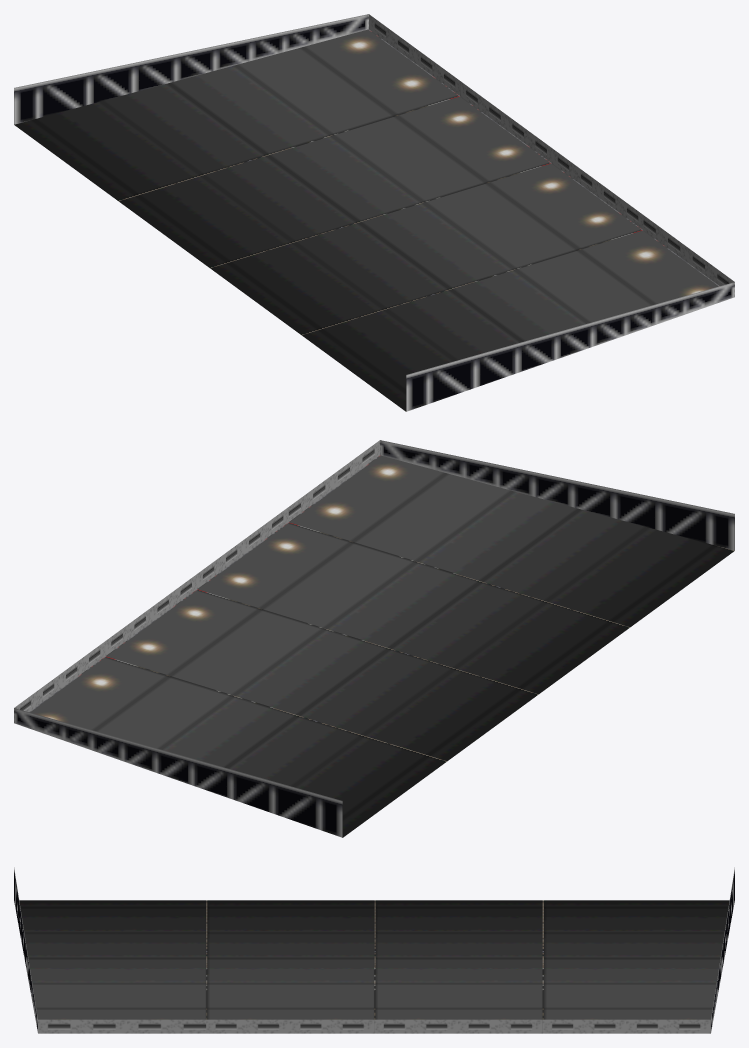
3 renders of one model, top to bottom at view 1: azimuth 30°, elevation 25°; view 2: azimuth 150°, elevation 25°; view 3: azimuth 270°, elevation 25°, orthographic. The views are drawn at different scales.
Size of the model in its own units: 36.23 by 3.74 by 72.
3 materials, 3 textured.
